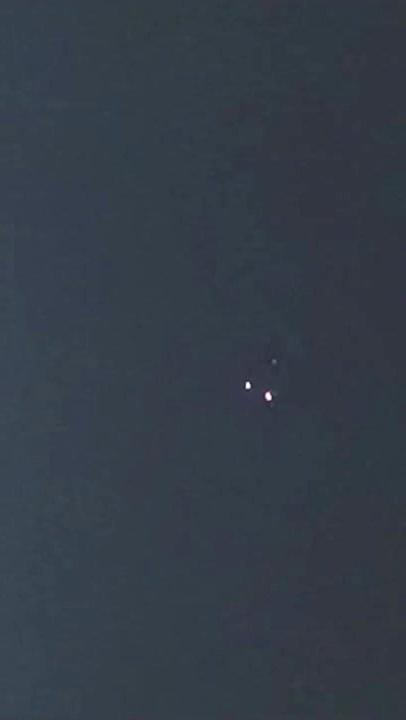Plane: (233, 375, 288, 416)
